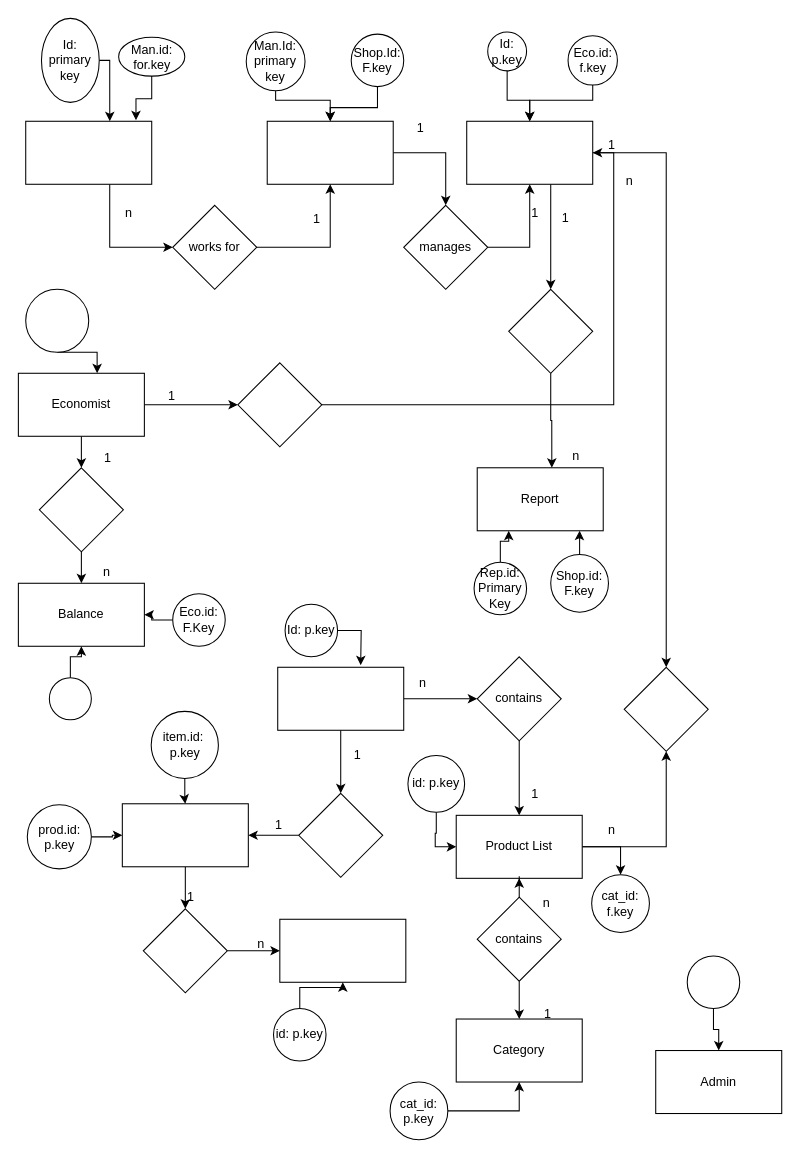
Some shapes in this 800 by 1158 pixel diagram are drawn without their labels. Here are the shapes that lost their labels. From the top down, the box of each, then its label:
(25, 120, 152, 184): Worker
(266, 120, 393, 184): Manager
(466, 120, 593, 184): Shop
(25, 288, 89, 352): Id: Primary Key.
(508, 288, 593, 373): Generated for
(237, 362, 322, 447): oversees
(38, 467, 123, 552): makes
(48, 677, 91, 720): B_id: p.key
(277, 666, 404, 730): Products
(623, 666, 708, 751): sells
(121, 803, 248, 867): Menu Products
(279, 918, 406, 982): Menu Item
(686, 955, 740, 1009): admin.id: p.key
